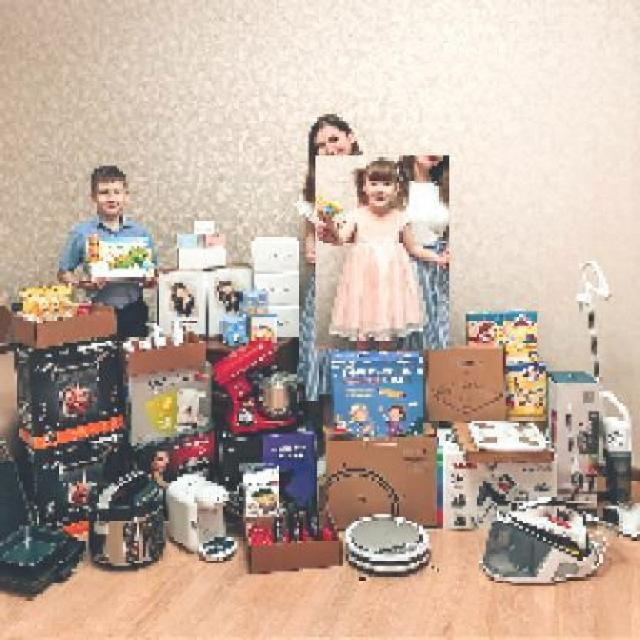child: (314, 155, 449, 351)
